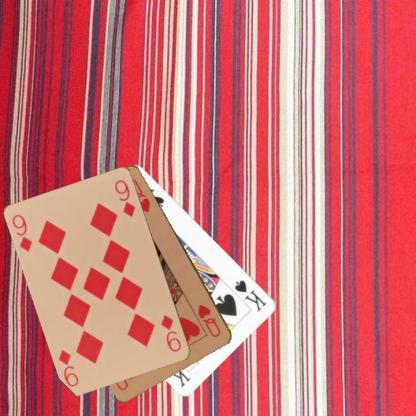9d: (158, 312, 183, 354), (10, 211, 34, 254)
Ks: (232, 277, 268, 313)
Qh: (196, 302, 223, 338)
